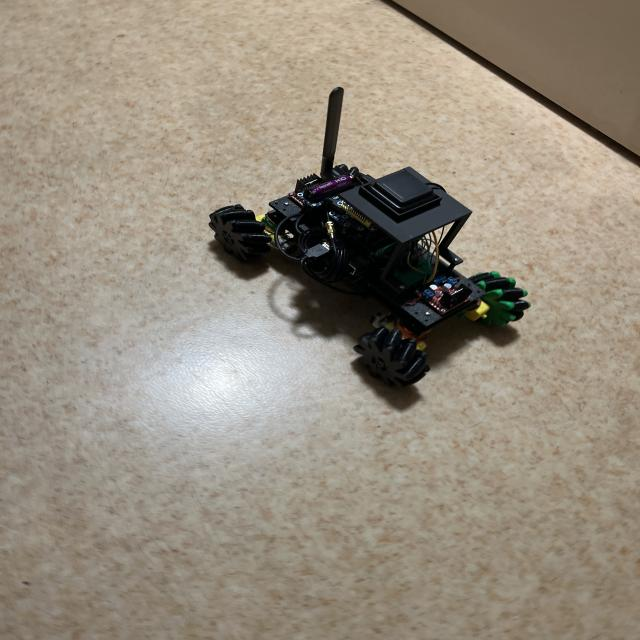robot: (209, 87, 529, 386)
